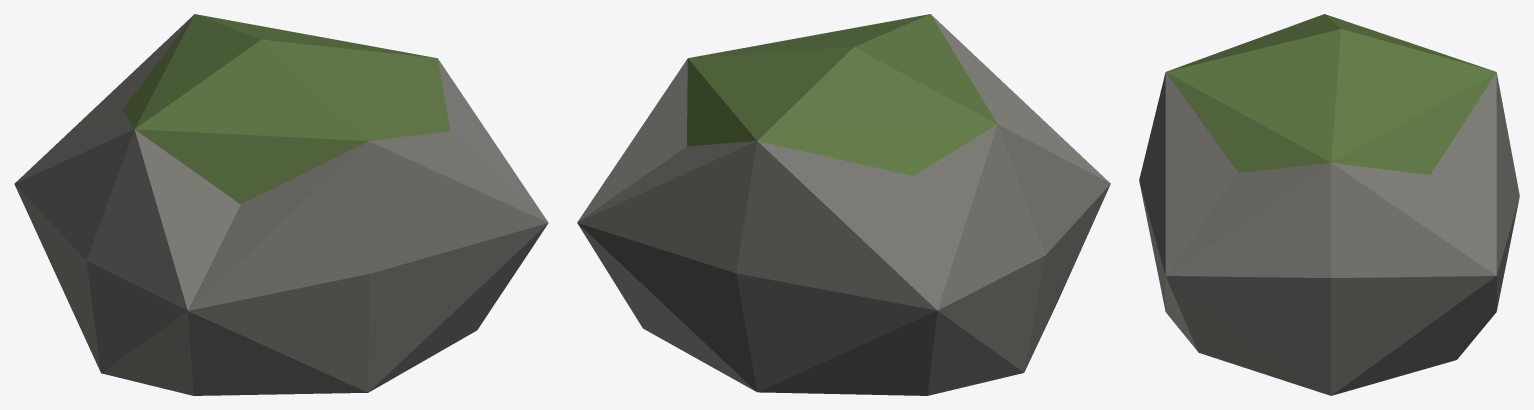
The model's file is rock.glb.
3 views of the same model, side by side, from view 1: azimuth 30°, elevation 25°; view 2: azimuth 150°, elevation 25°; view 3: azimuth 270°, elevation 25° (orthographic). The views are drawn at different scales.
Visible parts, largest first — view 1: rock; view 2: rock; view 3: rock.
Part boxes in pixels (left/top/right/bottom): rock: left=14, top=14, right=548, bottom=395; rock: left=577, top=14, right=1110, bottom=395; rock: left=1139, top=14, right=1519, bottom=395.
Bounding box in the file's own units: 1.34 × 0.92 × 1.15.
